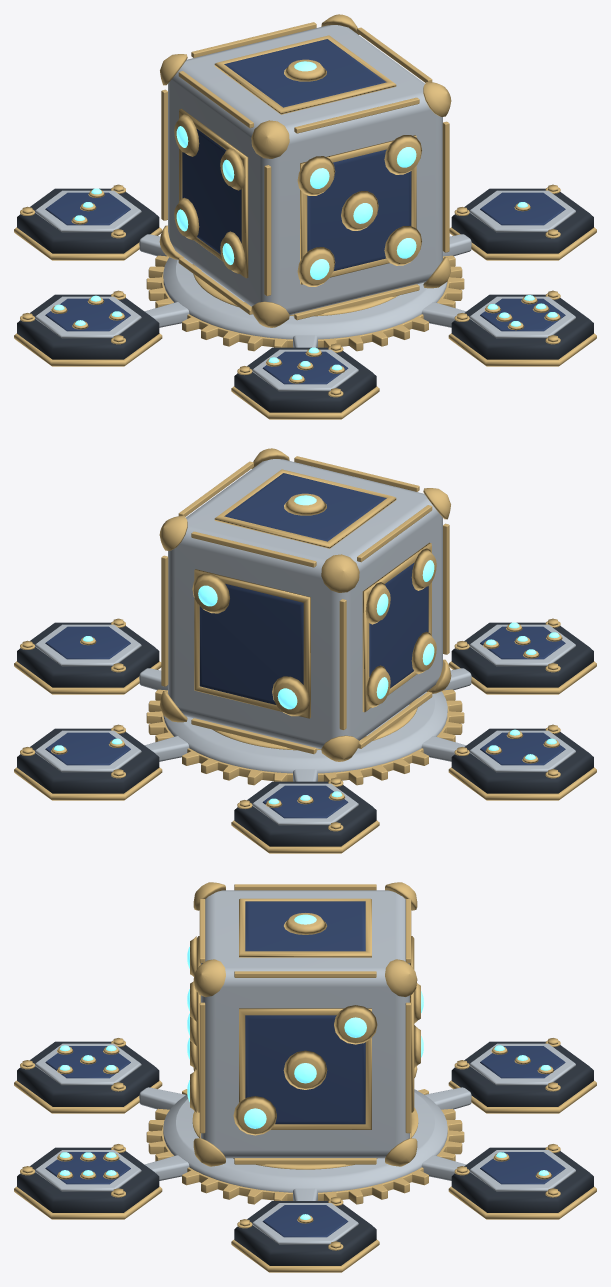
File: ludora_dice.glb
The picture shows the model from 3 angles, top to bottom: view 1: azimuth 30°, elevation 25°; view 2: azimuth 150°, elevation 25°; view 3: azimuth 270°, elevation 25°; orthographic projection.
Visible parts, largest first — view 1: DICE / body, DICE / corner cap, DICE / face panel, DICE / common hub, DICE / hub collar, DICE / tile 4 base, DICE / tile 6 base, DICE / tile 5 base, DICE / tile 1 base, DICE / tile 3 base, DICE / pip lens, DICE / tile 1 inlay (+14 smaller); view 2: DICE / body, DICE / corner cap, DICE / face panel, DICE / common hub, DICE / hub collar, DICE / tile 3 base, DICE / tile 2 base, DICE / tile 4 base, DICE / tile 1 base, DICE / tile 5 base, DICE / tile 1 inlay, DICE / tile 2 inlay (+14 smaller); view 3: DICE / body, DICE / corner cap, DICE / face panel, DICE / common hub, DICE / hub collar, DICE / tile 2 base, DICE / tile 6 base, DICE / tile 3 base, DICE / tile 5 base, DICE / tile 1 base, DICE / tile 1 inlay, DICE / module socket 6-0 (+14 smaller).
Part boxes in pixels (<box>): DICE / body: <box>168,25,442,315</box>; DICE / corner cap: <box>159,14,451,327</box>; DICE / face panel: <box>182,39,411,271</box>; DICE / common hub: <box>139,234,471,347</box>; DICE / hub collar: <box>146,255,464,351</box>; DICE / tile 4 base: <box>17,294,159,359</box>; DICE / tile 6 base: <box>451,294,593,359</box>; DICE / tile 5 base: <box>234,347,376,412</box>; DICE / tile 1 base: <box>451,188,593,253</box>; DICE / tile 3 base: <box>17,188,159,253</box>; DICE / pip lens: <box>176,61,416,279</box>; DICE / tile 1 inlay: <box>480,192,565,225</box>; DICE / body: <box>168,459,442,749</box>; DICE / corner cap: <box>159,448,451,761</box>; DICE / face panel: <box>199,473,428,704</box>; DICE / common hub: <box>139,668,471,781</box>; DICE / hub collar: <box>146,689,464,785</box>; DICE / tile 3 base: <box>234,781,376,846</box>; DICE / tile 2 base: <box>17,728,159,793</box>; DICE / tile 4 base: <box>451,728,593,793</box>; DICE / tile 1 base: <box>17,622,159,687</box>; DICE / tile 5 base: <box>451,622,593,687</box>; DICE / tile 1 inlay: <box>45,626,130,659</box>; DICE / tile 2 inlay: <box>45,732,130,765</box>; DICE / body: <box>201,890,409,1158</box>; DICE / corner cap: <box>190,882,420,1166</box>; DICE / face panel: <box>245,901,365,1124</box>; DICE / common hub: <box>139,1087,471,1200</box>; DICE / hub collar: <box>146,1089,464,1204</box>; DICE / tile 2 base: <box>451,1147,593,1212</box>; DICE / tile 6 base: <box>17,1147,159,1212</box>; DICE / tile 3 base: <box>451,1041,593,1106</box>; DICE / tile 5 base: <box>17,1041,159,1106</box>; DICE / tile 1 base: <box>234,1201,376,1265</box>; DICE / tile 1 inlay: <box>262,1205,348,1237</box>; DICE / module socket 6-0: <box>14,1144,162,1219</box>.
Size of the model in its own units: 3.01 by 1.19 by 2.79.
